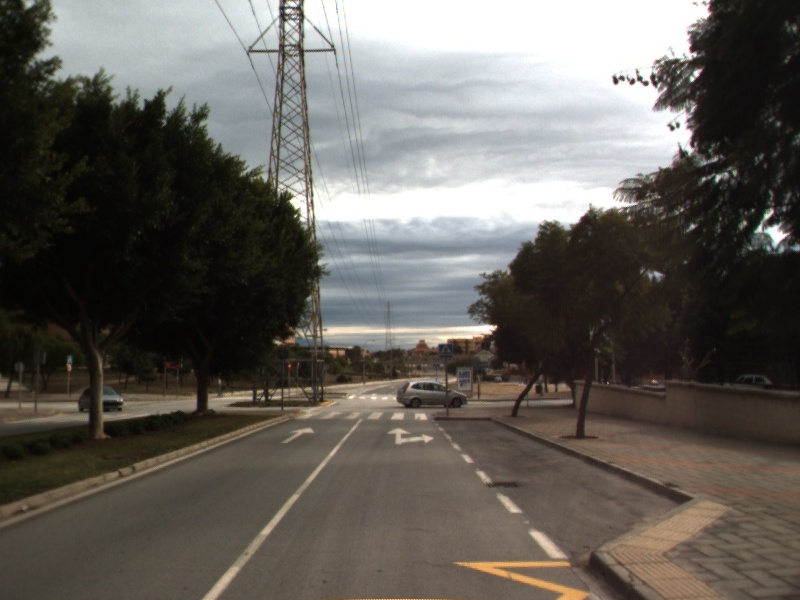STRAIGHT: (279, 424, 317, 445)
STRAIGHT_RIGHT: (384, 425, 436, 446)
